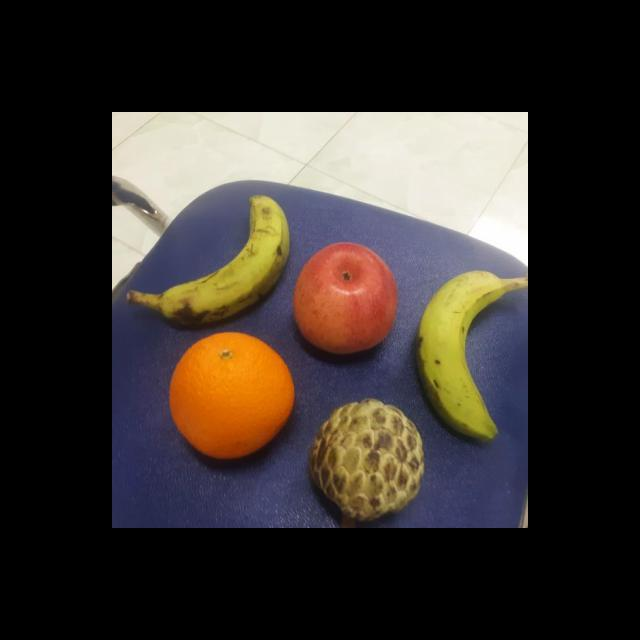Sakya fruit: (307, 396, 427, 518)
apple: (290, 239, 401, 355)
banana: (158, 192, 292, 331), (414, 268, 516, 441)
orange: (166, 328, 296, 459)
